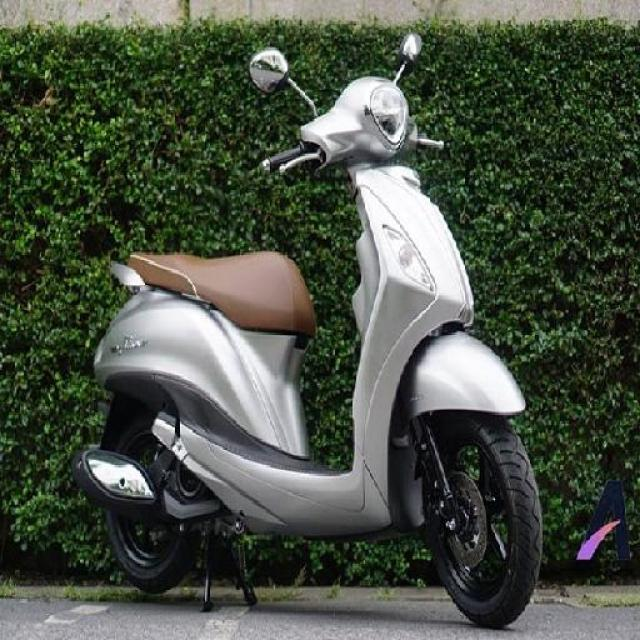All: (71, 75, 542, 627)
Head: (259, 77, 442, 168)
Tail: (101, 240, 183, 322)
